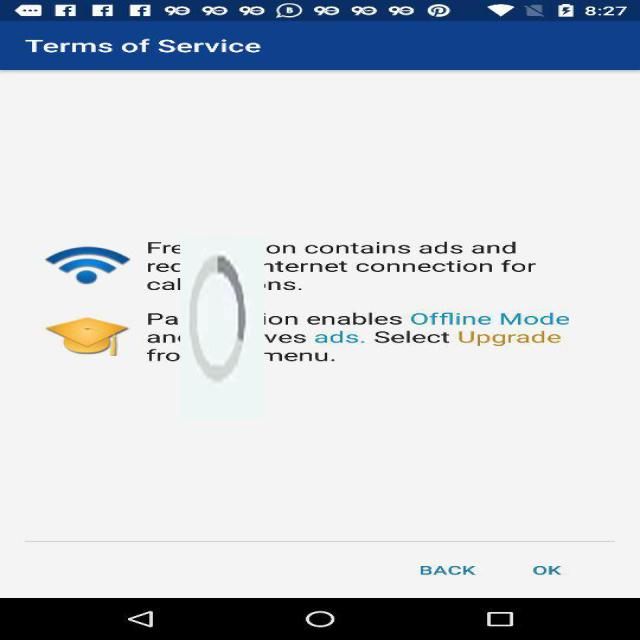misdirection: (180, 235, 264, 420)
